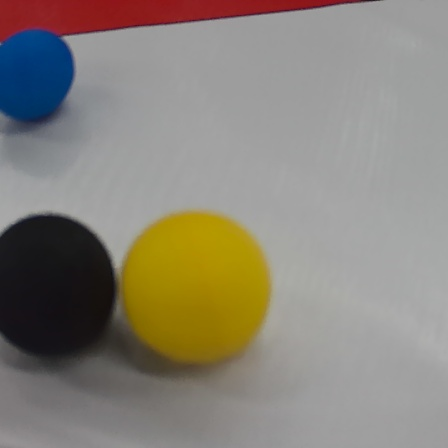black: (1, 213, 117, 356)
blue: (2, 29, 75, 121)
red_base: (3, 0, 418, 34)
yellow: (119, 208, 273, 367)
